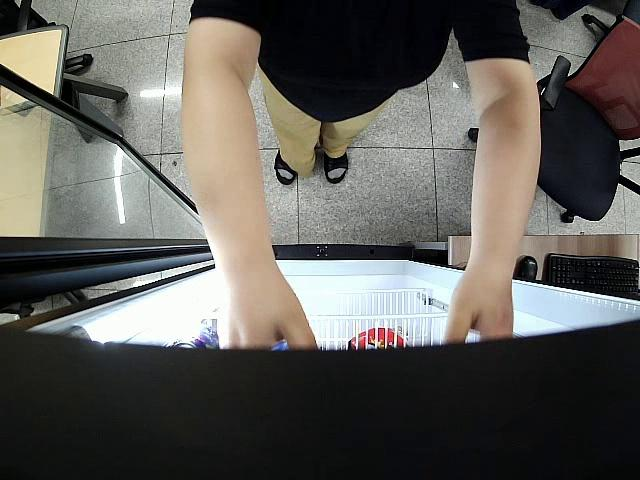00_hand: (213, 267, 320, 350), (443, 277, 515, 340)
